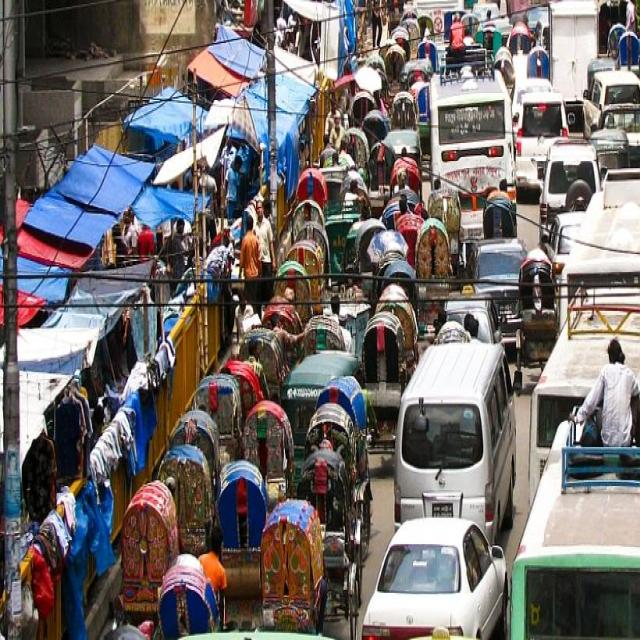car: (394, 325, 518, 514), (363, 503, 506, 640)
rickshaw: (260, 511, 324, 615), (113, 493, 176, 597), (211, 476, 267, 589)
